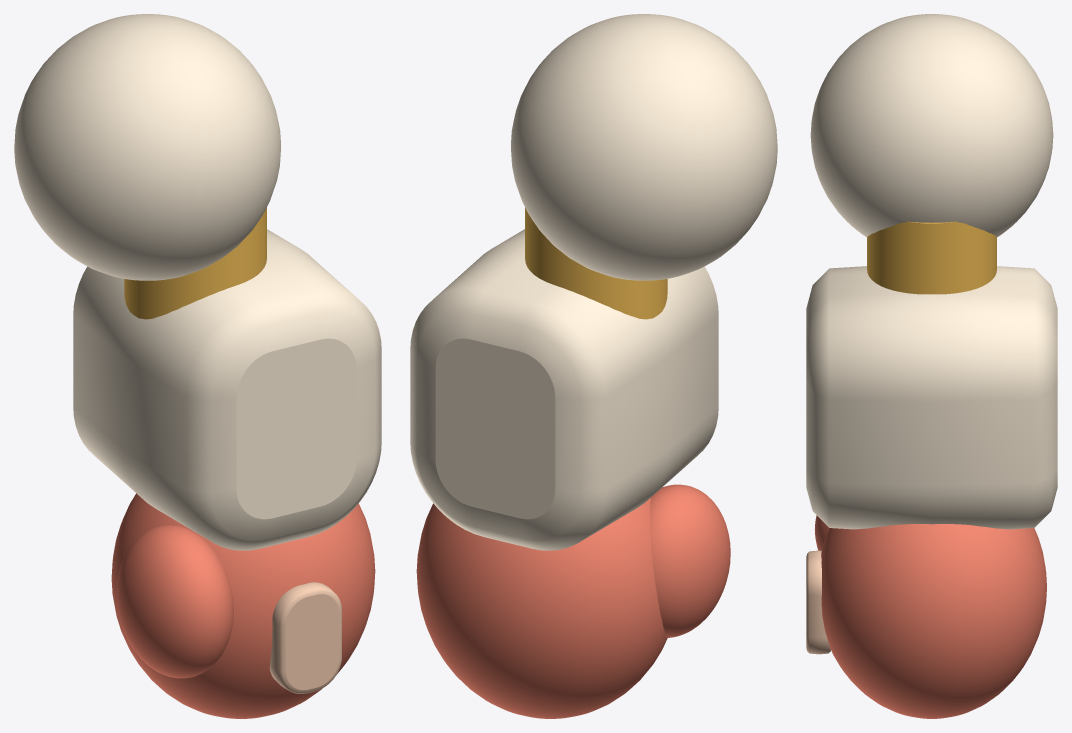
The model's file is part-right-arm.glb.
The picture shows the model from 3 angles, left to right: view 1: azimuth 30°, elevation 25°; view 2: azimuth 150°, elevation 25°; view 3: azimuth 270°, elevation 25°; orthographic projection. The views are drawn at different scales.
Parts seen in each view (by area): view 1: forearm-right, shoulder-right, mitten-right, thumb-right, palm-detail-right, elbow-right; view 2: forearm-right, shoulder-right, mitten-right, thumb-right, elbow-right; view 3: forearm-right, shoulder-right, mitten-right, elbow-right, palm-detail-right.
Part boxes in pixels (left/top/right/bottom): forearm-right: left=73, top=229, right=381, bottom=550; shoulder-right: left=14, top=14, right=280, bottom=280; mitten-right: left=111, top=493, right=375, bottom=718; thumb-right: left=116, top=525, right=233, bottom=678; palm-detail-right: left=269, top=582, right=341, bottom=693; elbow-right: left=124, top=207, right=266, bottom=319; forearm-right: left=410, top=229, right=718, bottom=550; shoulder-right: left=511, top=14, right=777, bottom=280; mitten-right: left=416, top=498, right=667, bottom=718; thumb-right: left=650, top=484, right=730, bottom=637; elbow-right: left=525, top=207, right=667, bottom=319; forearm-right: left=806, top=266, right=1057, bottom=529; shoulder-right: left=810, top=14, right=1053, bottom=237; mitten-right: left=821, top=524, right=1046, bottom=718; elbow-right: left=867, top=221, right=996, bottom=294; palm-detail-right: left=806, top=550, right=830, bottom=654.
Size of the model in its own units: 0.82 by 1.69 by 0.6.
